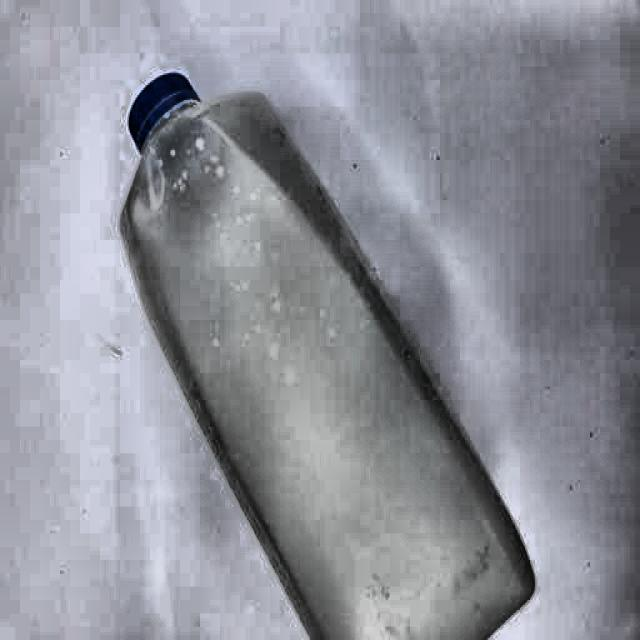plastic: (117, 63, 530, 640)
